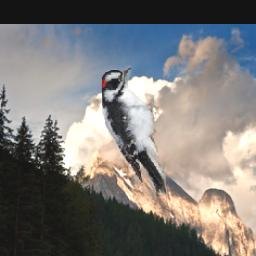Woodpecker: (102, 66, 169, 198)
